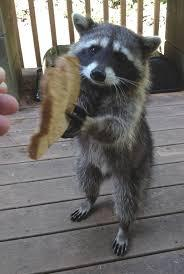raccoon: (62, 12, 162, 256)
